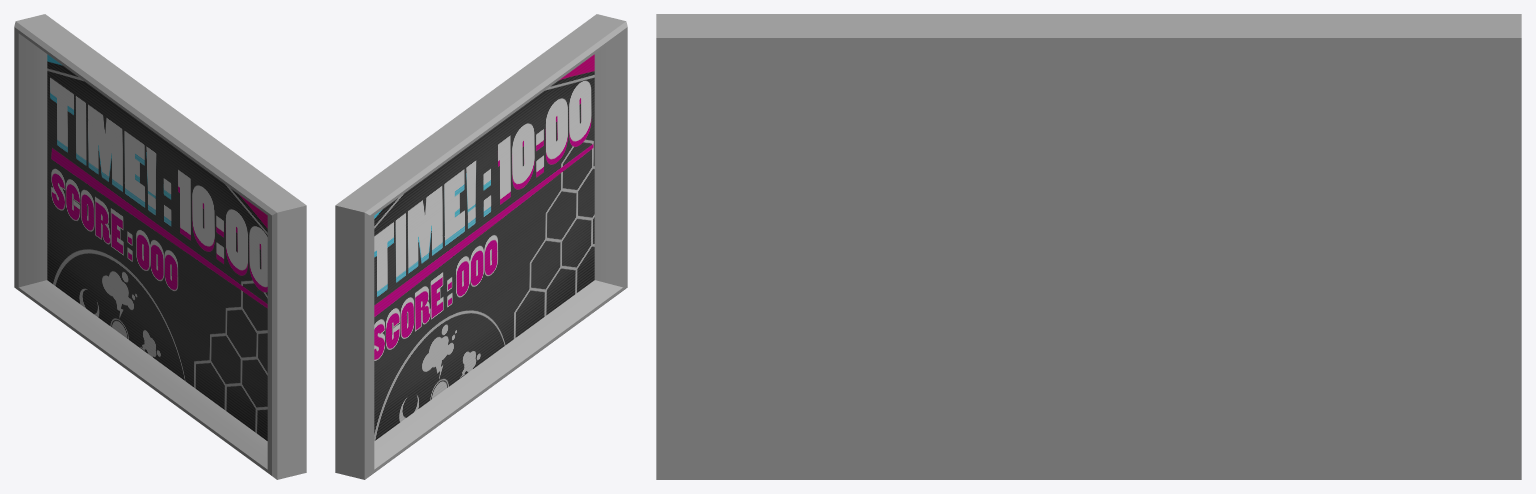
Rendered from BigScreen (1).fbx.
3 renders of one model, left to right at view 1: azimuth 30°, elevation 25°; view 2: azimuth 150°, elevation 25°; view 3: azimuth 270°, elevation 25°, orthographic. The views are drawn at different scales.
Visible parts, largest first — view 1: polySurface13, polySurface12; view 2: polySurface13, polySurface12; view 3: polySurface12.
Part boxes in pixels (left/top/right/bottom): polySurface13: left=47, top=54, right=267, bottom=440; polySurface12: left=14, top=14, right=306, bottom=479; polySurface13: left=374, top=54, right=594, bottom=440; polySurface12: left=335, top=14, right=627, bottom=479; polySurface12: left=656, top=14, right=1521, bottom=479.
Bounding box in the file's own units: 3.32 × 25.76 × 45.68.
